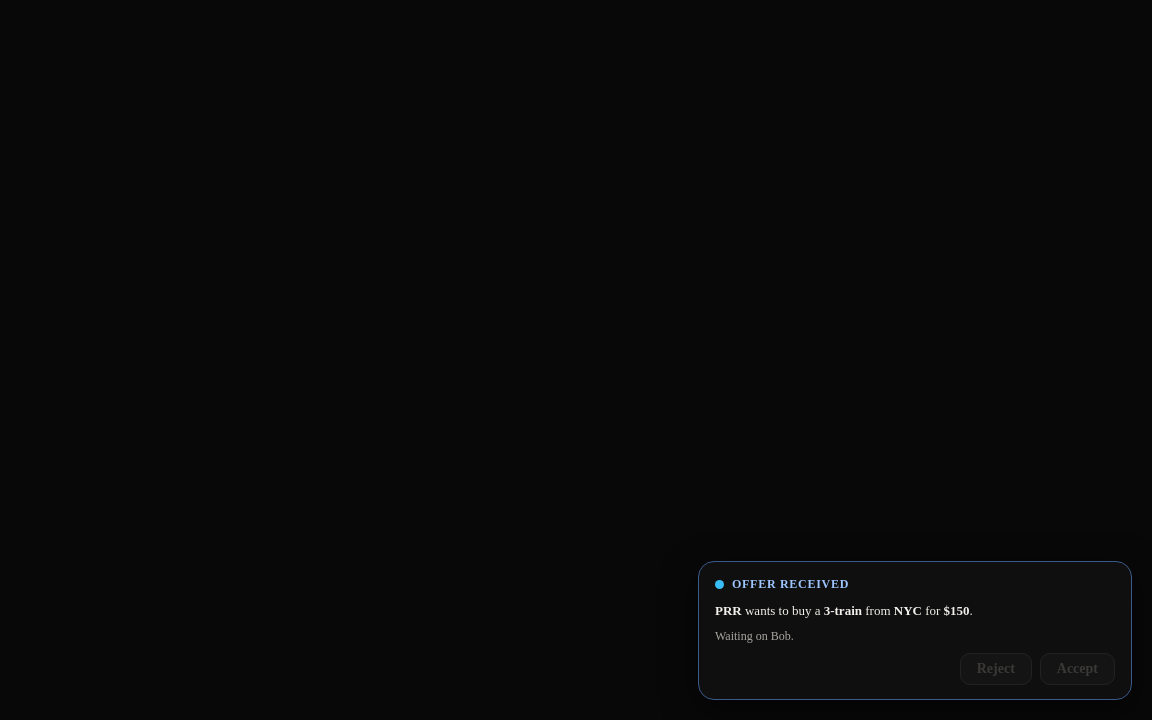
Test: K-09: Reject is live only for the seat the authority lets answer › the train offer: the selling president's Reject is live and applied; the buyer's president's, a third seat's and a watcher's are disabled -- and refused
This screenshot has width=1152, height=720.
Later steps or results of the test are not shown.
Expected: the button "Accept" is disabled, [1040, 653, 1115, 685]
// PRR (Alice) offers $150 for one of NYC's (Bob's) 3-trains.
Click the button "Reject": x=996, y=669 [960, 653, 1032, 685]
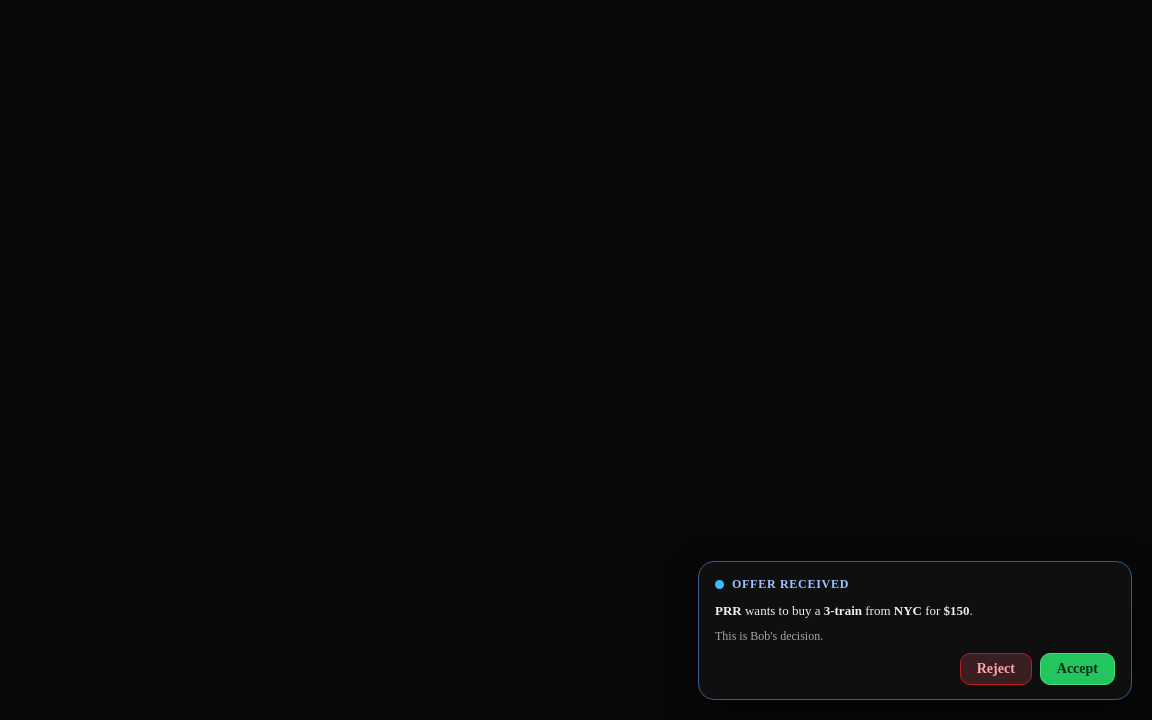
Now the button "Reject" is enabled
Now the button "Accept" is enabled, box [1040, 653, 1115, 685]
Click the button "Reject": x=996, y=669 [960, 653, 1032, 685]
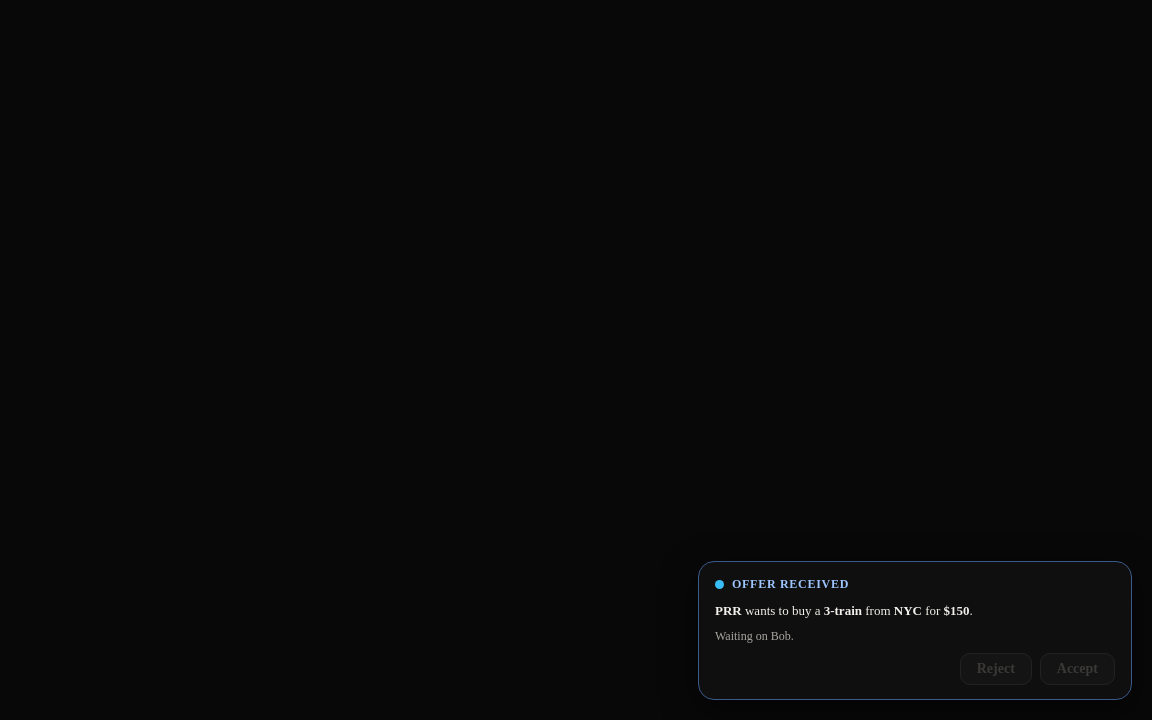
Now the button "Reject" is disabled
Now the button "Accept" is disabled, box [1040, 653, 1115, 685]
Click the button "Reject": x=996, y=669 [960, 653, 1032, 685]
Now the button "Reject" is disabled, box [960, 653, 1032, 685]
Now the button "Accept" is disabled, box [1040, 653, 1115, 685]
